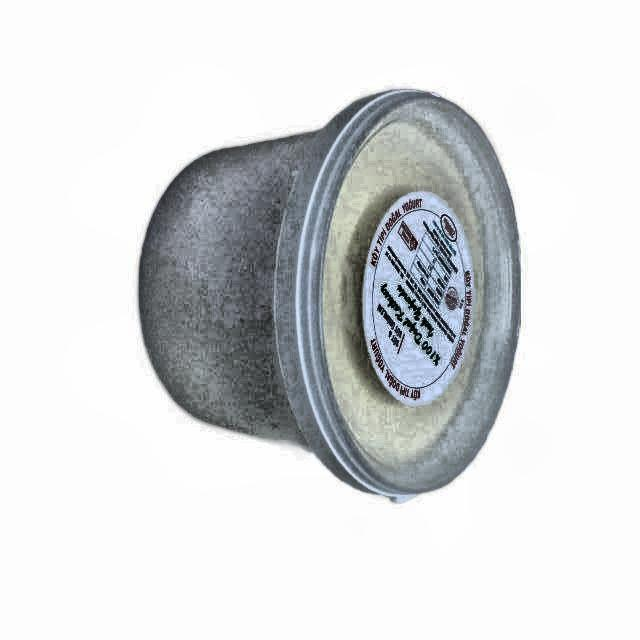plastic: (138, 90, 520, 500)
